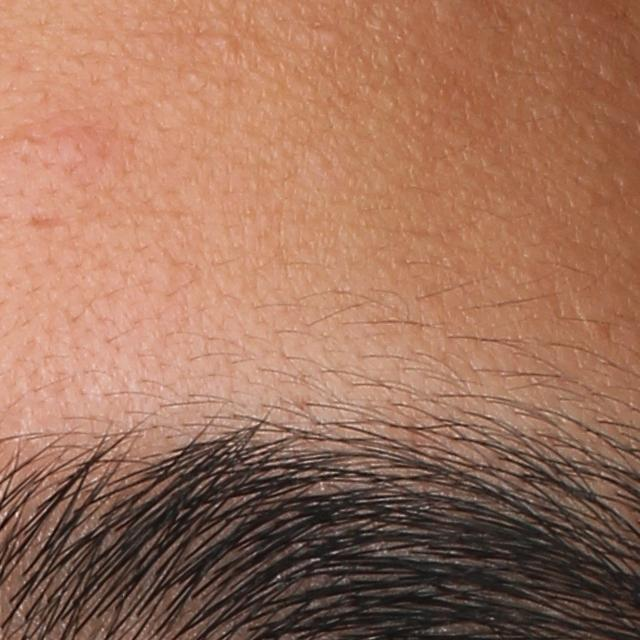atrophic_scar: (18, 206, 70, 235)
comedo: (52, 123, 99, 169), (208, 31, 241, 56), (314, 27, 347, 49)
